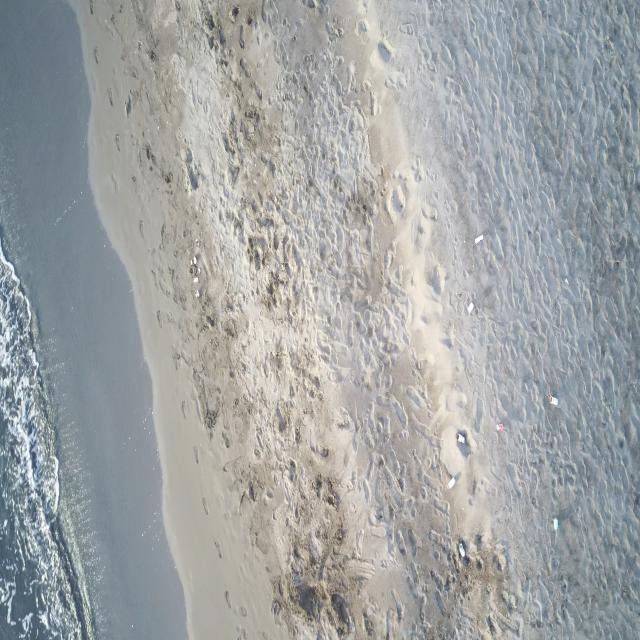Garbage: (456, 431, 470, 456), (457, 540, 467, 564), (457, 540, 466, 559), (188, 263, 198, 275), (547, 393, 557, 404), (473, 233, 483, 243), (447, 475, 455, 487), (457, 432, 464, 443), (467, 301, 473, 312), (552, 516, 557, 529), (496, 423, 503, 431), (193, 289, 199, 296), (192, 276, 198, 283), (191, 256, 196, 264)
